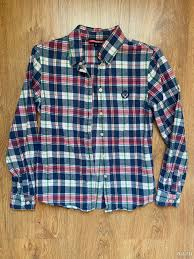squared: (5, 24, 190, 214)
